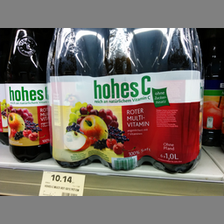juice: (148, 29, 200, 174), (95, 27, 147, 170), (50, 28, 96, 169), (6, 27, 49, 162)
